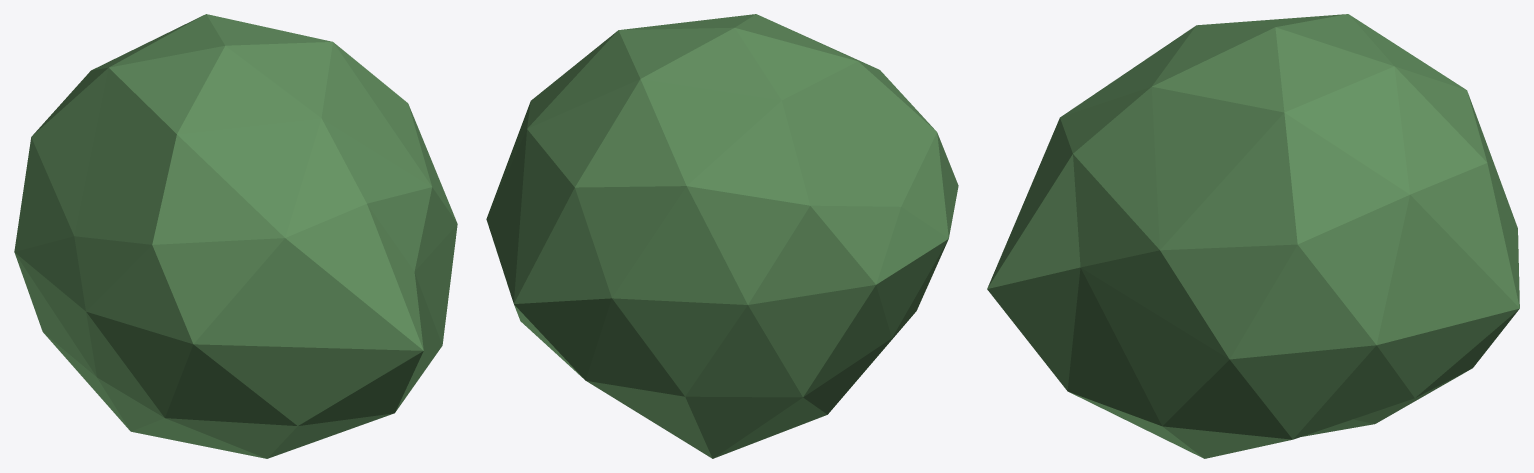
The model's file is Leaves4.fbx.
3 views of the same model, side by side, from view 1: azimuth 30°, elevation 25°; view 2: azimuth 150°, elevation 25°; view 3: azimuth 270°, elevation 25° (orthographic). The views are drawn at different scales.
Parts seen in each view (by area): view 1: Leaves4; view 2: Leaves4; view 3: Leaves4.
Boxes of the visible parts, x1,y1,x2,y2 form: Leaves4: (14,14,457,458); Leaves4: (486,14,958,458); Leaves4: (987,14,1519,458).
Bounding box in the file's own units: 190 × 183 × 215.
